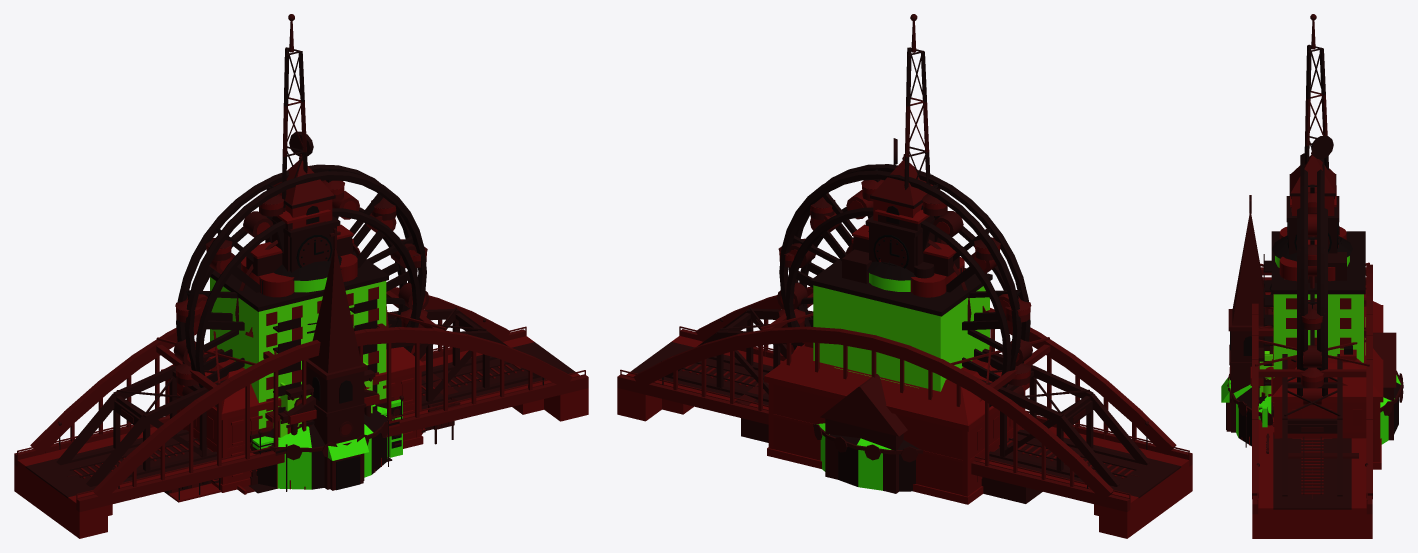
3 views of the same model, side by side, from view 1: azimuth 30°, elevation 25°; view 2: azimuth 150°, elevation 25°; view 3: azimuth 270°, elevation 25° (orthographic). The views are drawn at different scales.
Parts seen in each view (by area): view 1: road_bridge, rail_bridge, apartment_block, ferris_wheel, ferris_wheel_ring, church, town_hall, circus_tent, clock_tower, grain_elevator, radio_mast, motel (+3 smaller); view 2: road_bridge, town_hall, apartment_block, rail_bridge, ferris_wheel, ferris_wheel_ring, church, clock_tower, circus_tent, grain_elevator, radio_mast, motel (+1 smaller); view 3: road_bridge, apartment_block, town_hall, rail_bridge, church, ferris_wheel, ferris_wheel_ring, clock_tower, circus_tent, radio_mast, grain_elevator, water_tower (+3 smaller).
Boxes of the visible parts, left/top/right/bottom form: road_bridge: left=14, top=287, right=588, bottom=538; rail_bridge: left=56, top=307, right=543, bottom=515; apartment_block: left=210, top=251, right=388, bottom=428; ferris_wheel: left=175, top=164, right=427, bottom=386; ferris_wheel_ring: left=173, top=190, right=429, bottom=395; church: left=306, top=228, right=367, bottom=489; town_hall: left=161, top=347, right=425, bottom=492; circus_tent: left=250, top=404, right=394, bottom=490; clock_tower: left=266, top=154, right=340, bottom=272; grain_elevator: left=241, top=209, right=357, bottom=297; radio_mast: left=282, top=14, right=313, bottom=211; motel: left=164, top=370, right=460, bottom=502; road_bridge: left=617, top=287, right=1192, bottom=538; town_hall: left=764, top=344, right=1029, bottom=504; apartment_block: left=810, top=249, right=992, bottom=391; rail_bridge: left=662, top=307, right=1150, bottom=515; ferris_wheel: left=778, top=164, right=1031, bottom=386; ferris_wheel_ring: left=777, top=190, right=1032, bottom=395; church: left=820, top=188, right=947, bottom=493; clock_tower: left=865, top=154, right=939, bottom=273; circus_tent: left=813, top=423, right=923, bottom=491; grain_elevator: left=851, top=209, right=964, bottom=297; radio_mast: left=893, top=14, right=930, bottom=189; motel: left=735, top=382, right=1042, bottom=503; road_bridge: left=1252, top=262, right=1372, bottom=538; apartment_block: left=1263, top=226, right=1365, bottom=400; town_hall: left=1241, top=297, right=1383, bottom=469; rail_bridge: left=1282, top=354, right=1342, bottom=496; church: left=1228, top=195, right=1396, bottom=440; ferris_wheel: left=1300, top=153, right=1324, bottom=388; ferris_wheel_ring: left=1297, top=208, right=1327, bottom=405; clock_tower: left=1286, top=152, right=1339, bottom=254; circus_tent: left=1221, top=370, right=1403, bottom=446; radio_mast: left=1304, top=14, right=1333, bottom=170; grain_elevator: left=1279, top=185, right=1346, bottom=282; water_tower: left=1269, top=235, right=1352, bottom=294.
Size of what is drawn, in the model's own units: 72 by 59.55 by 24.2.
